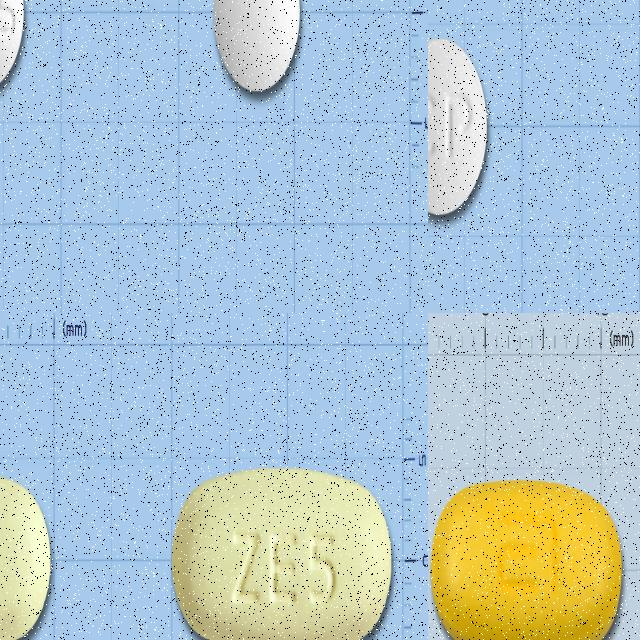Jecla: (171, 466, 393, 640), (0, 466, 51, 640)
Levofcin: (214, 0, 300, 91)
Pilocin Tab: (430, 481, 622, 640)
Refloxin Tab: (428, 37, 488, 215)
